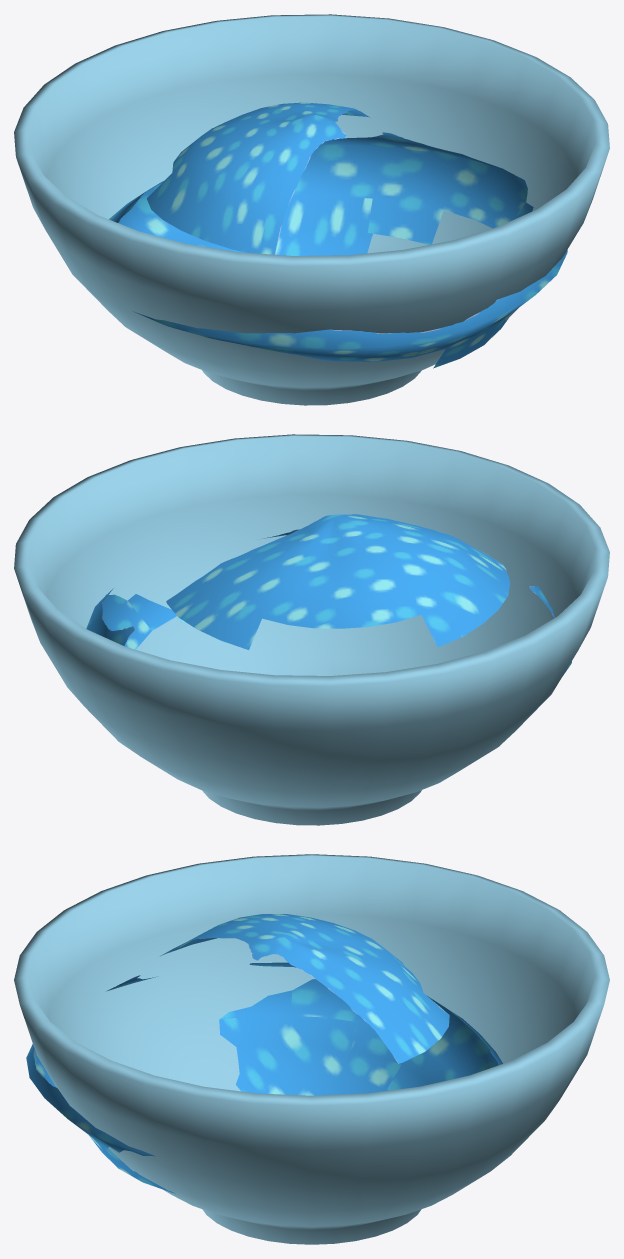
Rendered from Bowl of Blue Dust.fbx.
3 renders of one model, top to bottom at view 1: azimuth 30°, elevation 25°; view 2: azimuth 150°, elevation 25°; view 3: azimuth 270°, elevation 25°, orthographic.
Parts seen in each view (by area): view 1: Bowl of Blue; view 2: Bowl of Blue; view 3: Bowl of Blue.
Part boxes in pixels (x1,y1,x2,y2): Bowl of Blue: (14,14,609,405); Bowl of Blue: (14,434,609,825); Bowl of Blue: (14,854,609,1244).
Bounding box in the file's own units: 44.24 × 20.8 × 44.24.
